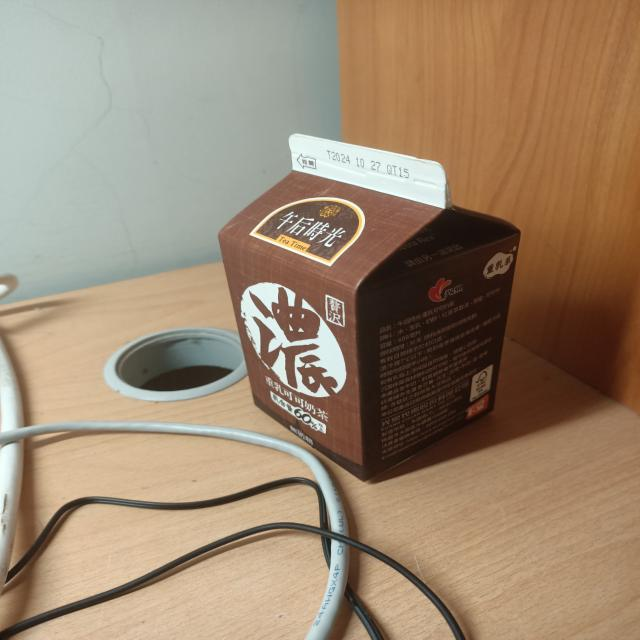Known_ChocoMilkTea: (203, 124, 527, 494)
